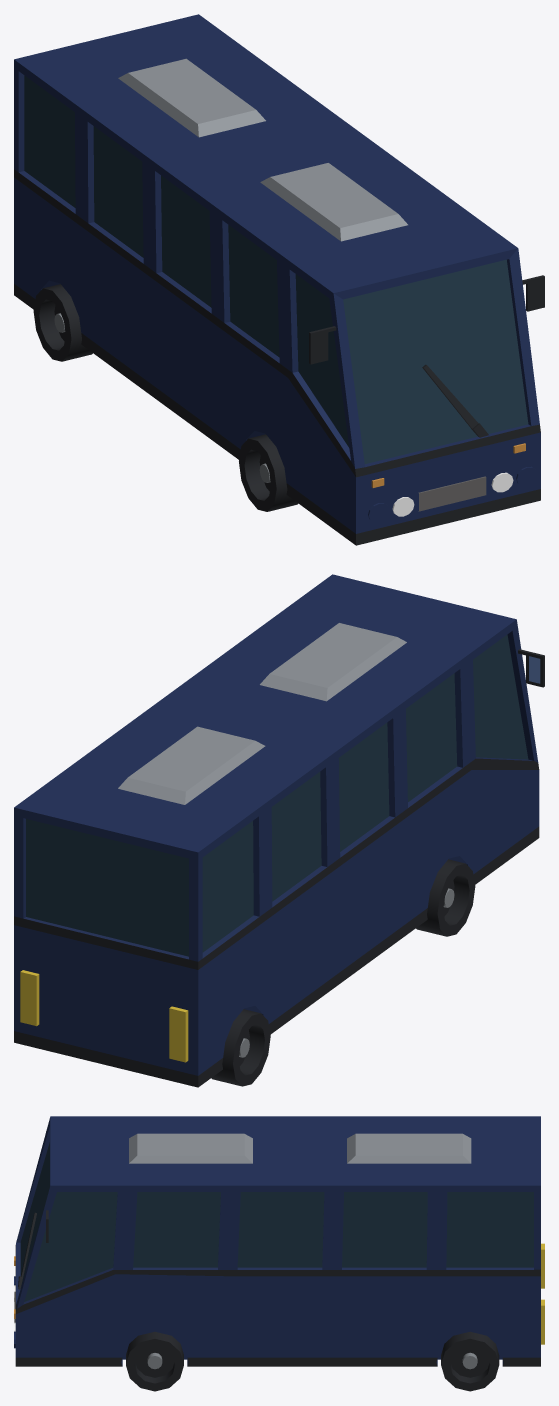
File: Bus_3.fbx
3 renders of one model, top to bottom at view 1: azimuth 30°, elevation 25°; view 2: azimuth 150°, elevation 25°; view 3: azimuth 270°, elevation 25°, orthographic. The views are drawn at different scales.
Parts seen in each view (by area): view 1: Bus_3; view 2: Bus_3; view 3: Bus_3.
Part boxes in pixels (x1=…): Bus_3: x1=14, y1=14, x2=544, y2=545; Bus_3: x1=14, y1=574, x2=544, y2=1087; Bus_3: x1=14, y1=1116, x2=544, y2=1391.
Size of the model in its own units: 201 by 223 by 513.
